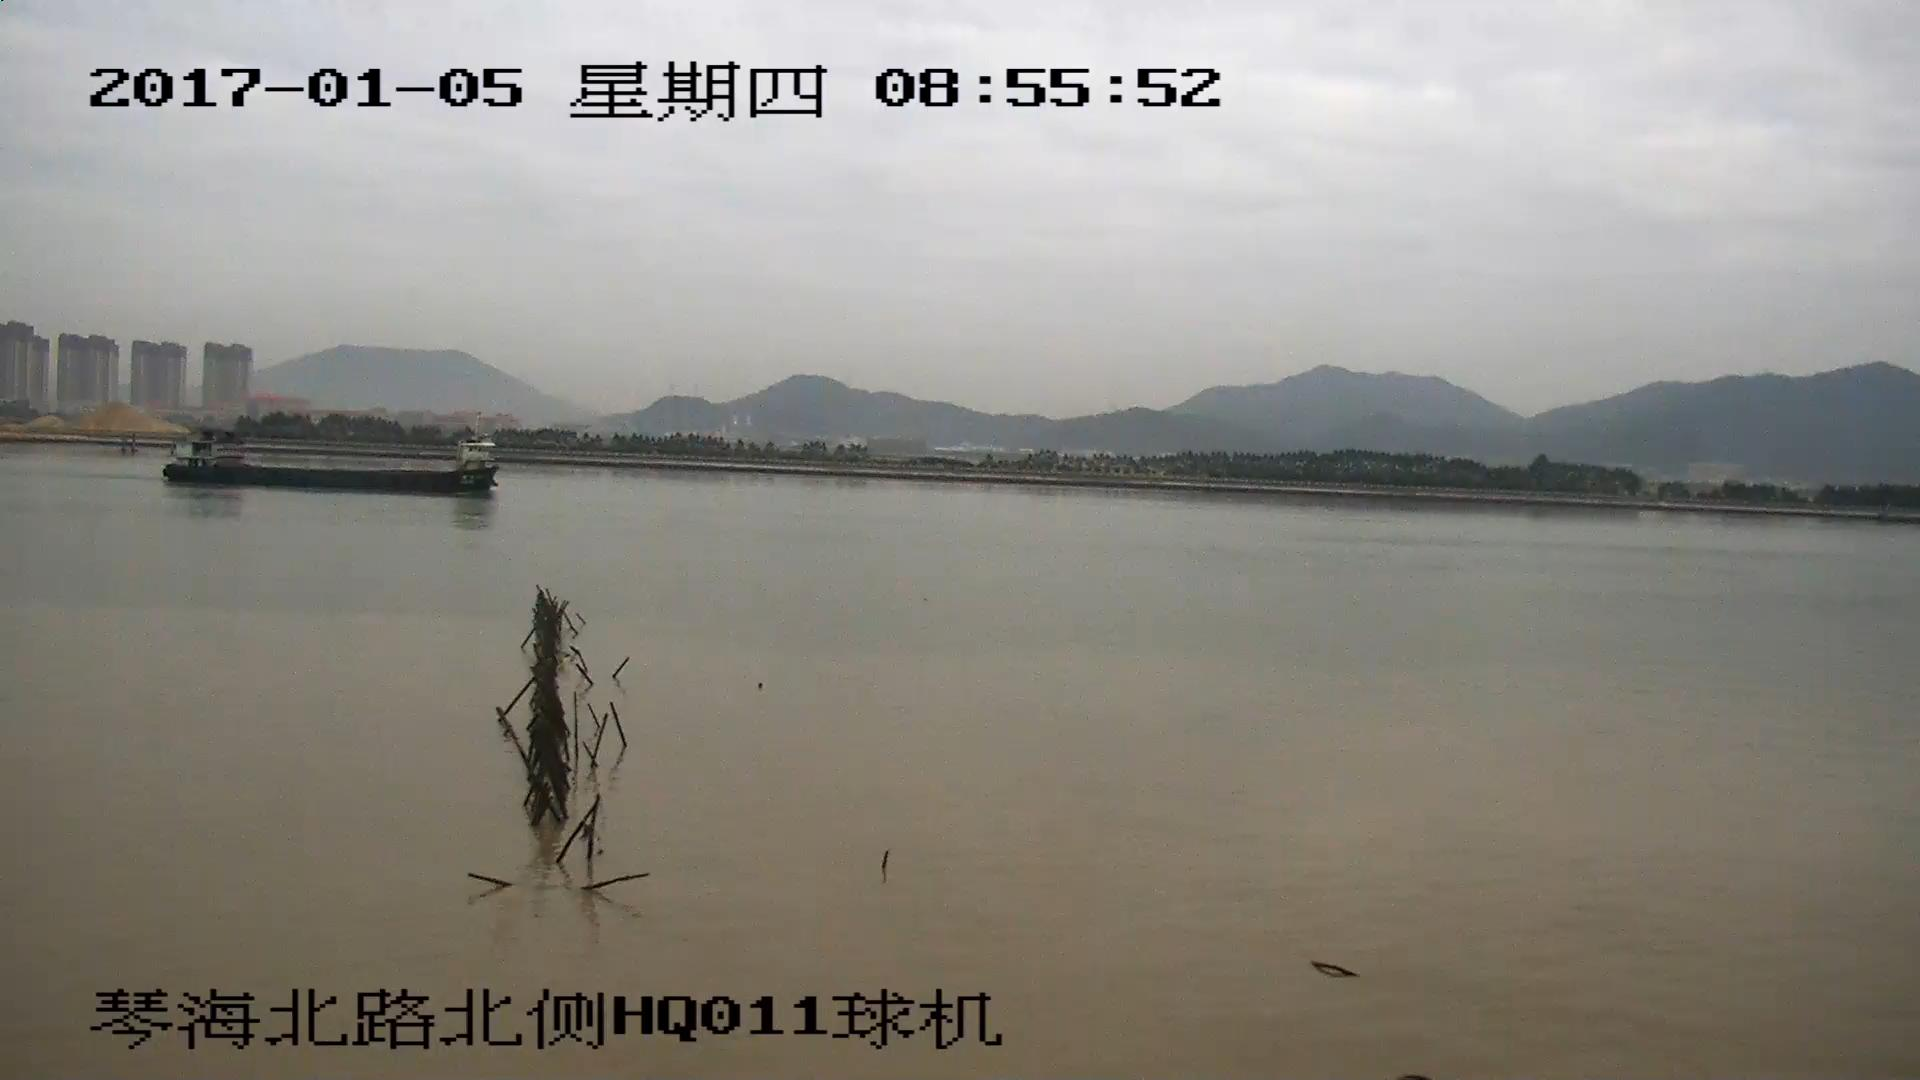general cargo ship: (168, 418, 500, 494)
